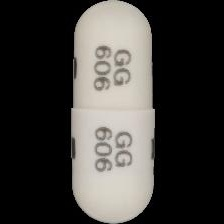45865-402: (0, 0, 224, 224)
